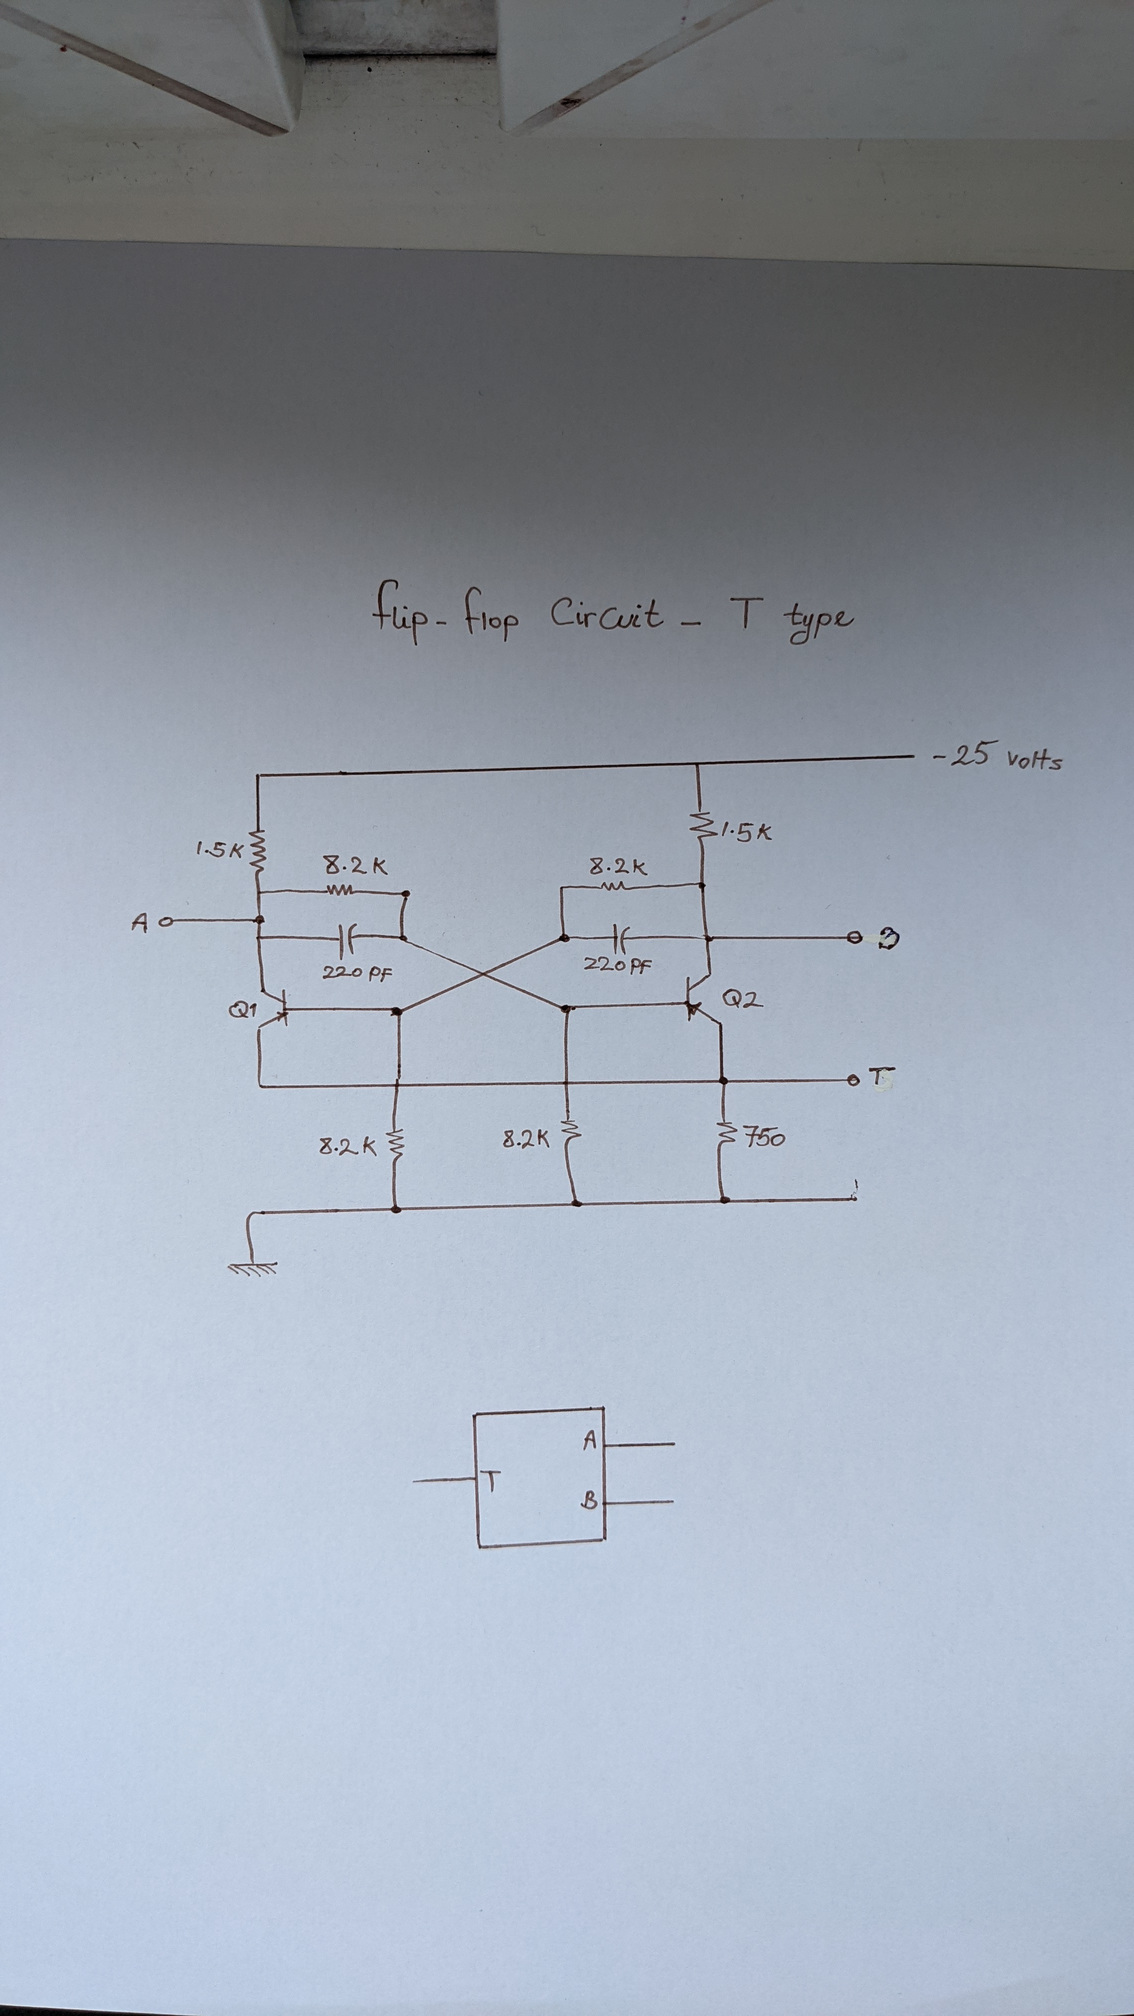capacitor.unpolarized: (335, 919, 361, 964), (609, 922, 633, 957)
crossover: (390, 1074, 404, 1092), (475, 968, 493, 980), (559, 1076, 575, 1090)
gnd: (224, 1259, 280, 1279)
integrated_circuit: (469, 1404, 611, 1552)
junction: (694, 930, 719, 944), (388, 1004, 408, 1020), (251, 910, 269, 928), (557, 1002, 579, 1016), (568, 1196, 587, 1212), (388, 1202, 406, 1217), (557, 930, 575, 944), (397, 888, 415, 901), (714, 1074, 732, 1088), (395, 932, 413, 944), (717, 1192, 732, 1206), (244, 1207, 258, 1223), (695, 878, 709, 892), (847, 1192, 863, 1205), (557, 882, 570, 894), (255, 1079, 267, 1091), (252, 770, 266, 781), (691, 757, 703, 768), (253, 888, 266, 899), (253, 933, 267, 943)
resistor: (687, 807, 720, 845), (246, 825, 270, 876), (384, 1126, 407, 1164), (714, 1117, 739, 1149), (559, 1117, 583, 1151), (324, 882, 357, 897), (598, 881, 631, 894)
terminal: (845, 929, 867, 944), (155, 915, 176, 930), (845, 1072, 863, 1088), (408, 1475, 422, 1487), (907, 750, 919, 763), (667, 1437, 681, 1448), (666, 1495, 678, 1506)
text: (370, 576, 858, 647), (930, 737, 1065, 773), (582, 953, 654, 978), (323, 852, 390, 878), (320, 964, 395, 984), (317, 1134, 379, 1159), (587, 856, 651, 878), (739, 1122, 786, 1151), (720, 820, 775, 843), (194, 838, 246, 861), (501, 1127, 552, 1151), (720, 986, 764, 1011), (865, 1063, 899, 1088), (876, 924, 901, 953), (227, 998, 259, 1020), (478, 1468, 504, 1493), (127, 910, 152, 935), (579, 1488, 600, 1512), (582, 1428, 600, 1452)
transistor: (683, 971, 726, 1029), (253, 986, 289, 1032)
